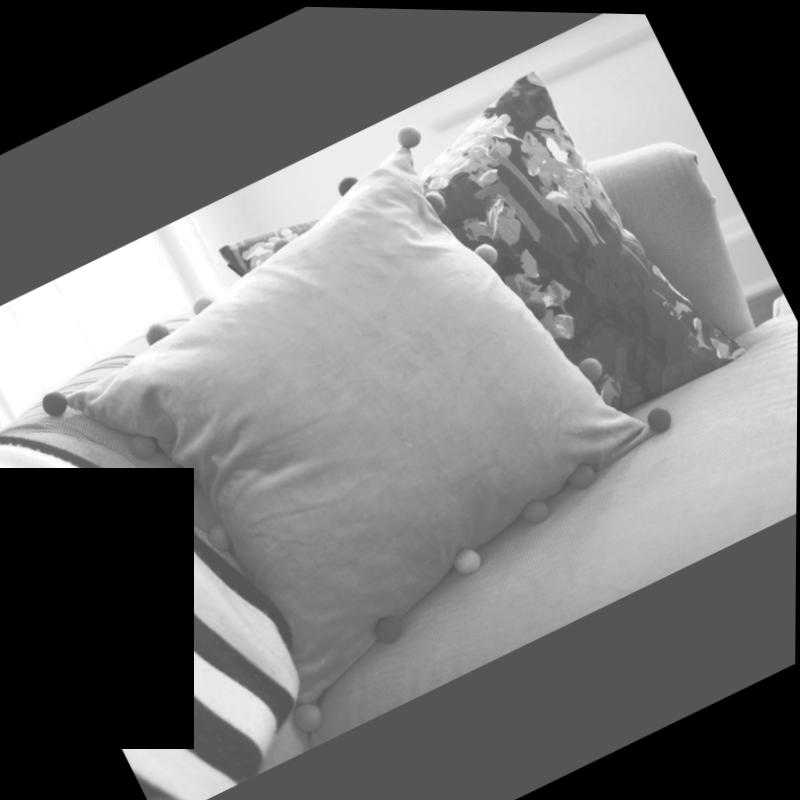pillow: (76, 68, 728, 737), (208, 30, 754, 548)
